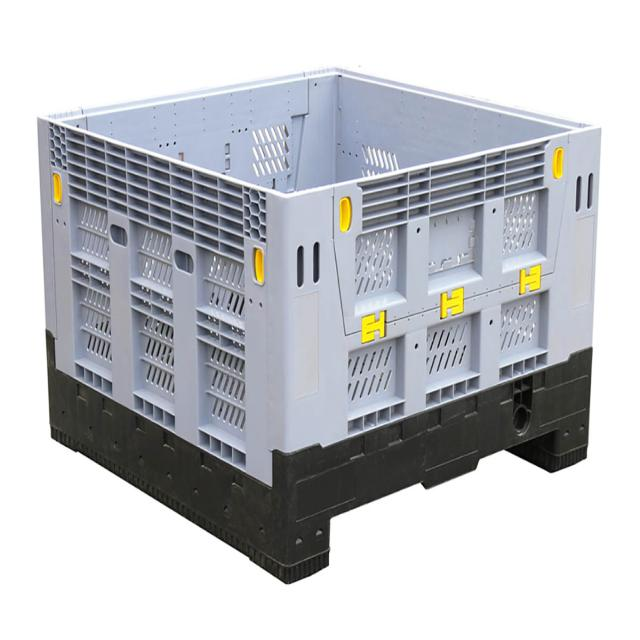basket: (32, 54, 623, 595)
